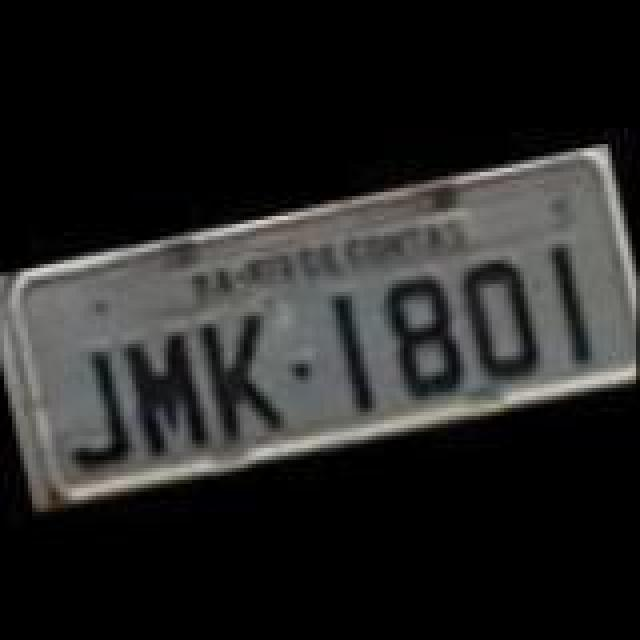1: (538, 238, 602, 366), (320, 284, 380, 408)
8: (376, 258, 468, 398)
J: (42, 338, 134, 474)
K: (190, 298, 290, 446)
M: (120, 324, 216, 460)
O: (458, 252, 546, 388)
